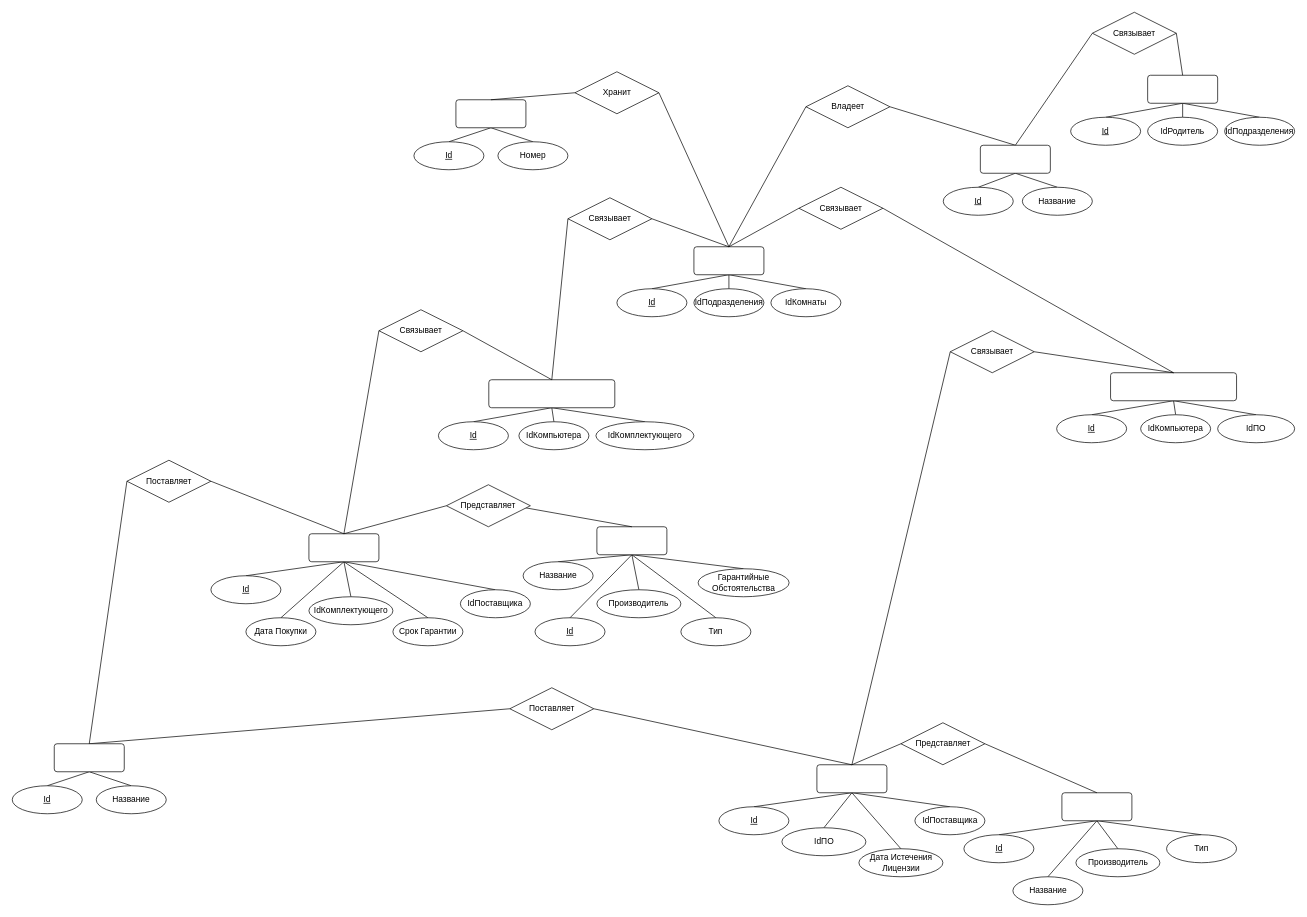
This 1307x917 diagram has some shape labels left out. Here are the shapes that lost their labels. From the top down, the centre of each, then its label:
the point at 1182,89: Связь Подразделений
the point at 490,113: Комната
the point at 1015,159: Подразделение
the point at 728,260: Компьютер
the point at 551,393: Связь Компьютер - Элемент Комплектующего
the point at 1173,386: Связь Компьютер - Элемент ПО
the point at 343,547: Элемент Комплектующего
the point at 631,540: Комплектующее
the point at 89,757: Поставщик
the point at 851,778: Элемент ПО
the point at 1096,806: ПО
